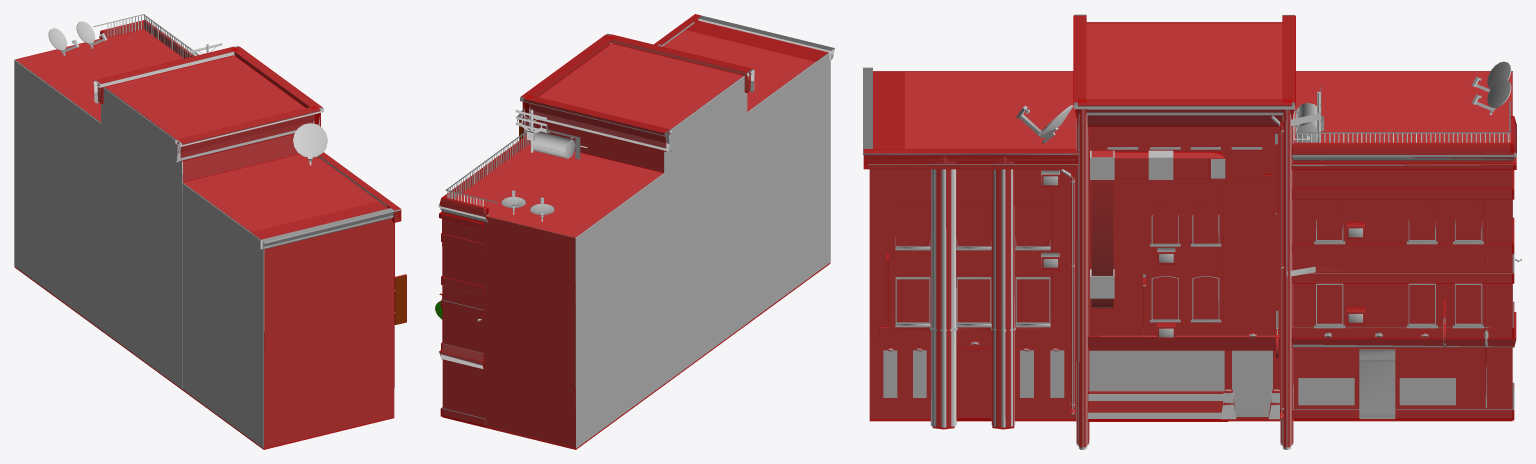
File: CT_building_031.dae
The picture shows the model from 3 angles, left to right: view 1: azimuth 30°, elevation 25°; view 2: azimuth 150°, elevation 25°; view 3: azimuth 270°, elevation 25°; orthographic projection. The views are drawn at different scales.
Visible parts, largest first — view 1: _031_building100, colmesh-2, _031_building400; view 2: _031_building100, colmesh-2, _031_building400; view 3: colmesh-2, _031_building100, _031_building400.
Part boxes in pixels (bbox=[...]): _031_building100: bbox=[14, 15, 406, 448]; colmesh-2: bbox=[14, 19, 406, 449]; _031_building400: bbox=[48, 14, 404, 312]; _031_building100: bbox=[435, 30, 834, 448]; colmesh-2: bbox=[435, 14, 830, 449]; _031_building400: bbox=[435, 14, 834, 418]; colmesh-2: bbox=[863, 15, 1516, 447]; _031_building100: bbox=[865, 22, 1516, 445]; _031_building400: bbox=[863, 14, 1521, 449].
Bounding box in the file's own units: 105 × 159 × 274.
